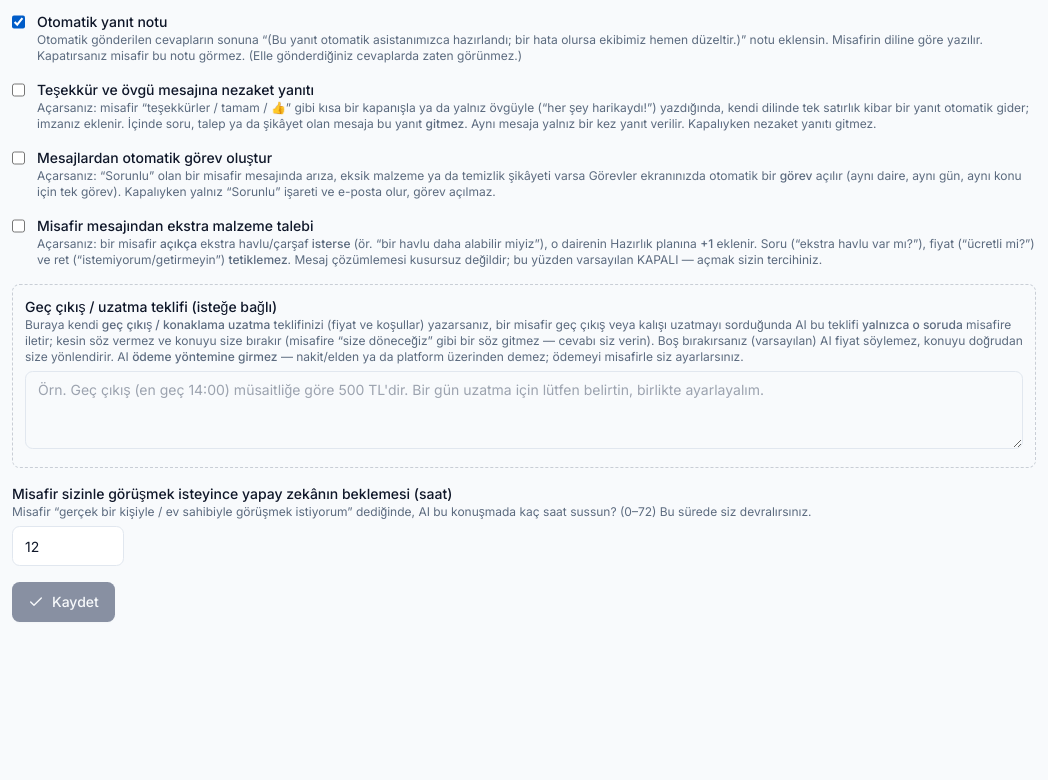
Scenario: AutomationPrefsForm — empty hold-hours guard › a CLEARED hold-hours box is rejected client-side — Number('')=0 must never be sent
The width and height of the screenshot is (1048, 780).
# Clear the field (dirty vs baseline "12" → Kaydet enables) and submit.
Clear the number field labelled "yapay zekânın beklemesi": (68, 546) left=12, top=526, right=124, bottom=566
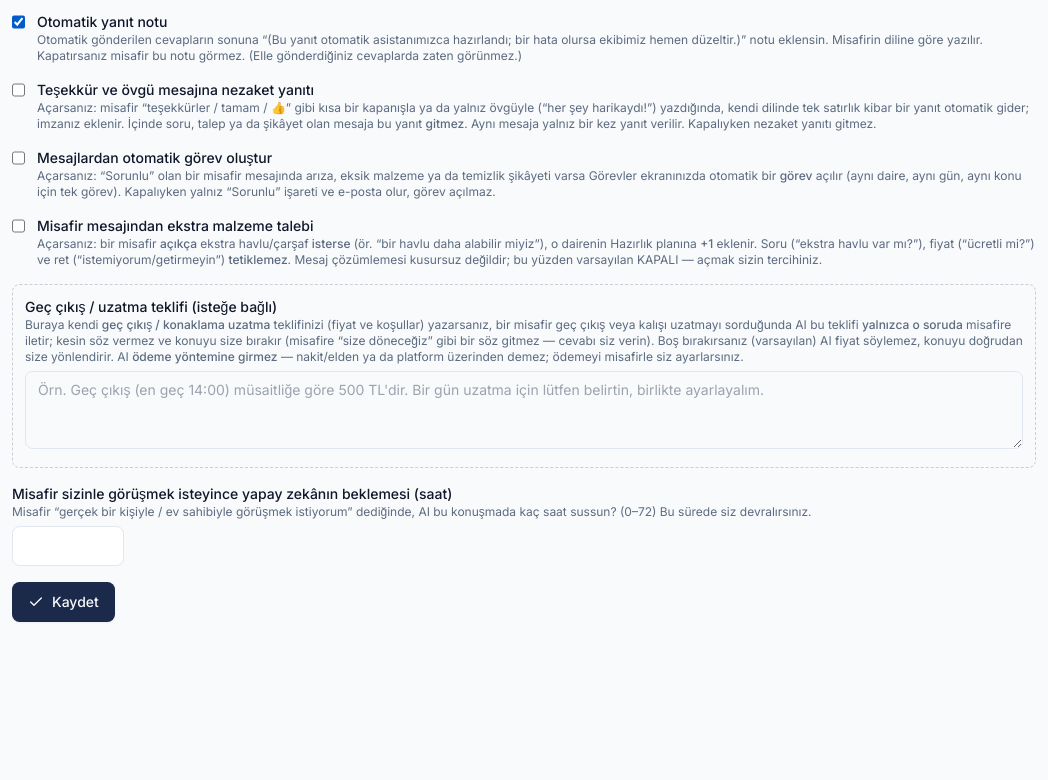
Result: the button "Kaydet" is enabled
Click the button "Kaydet": (63, 602) left=12, top=582, right=115, bottom=622
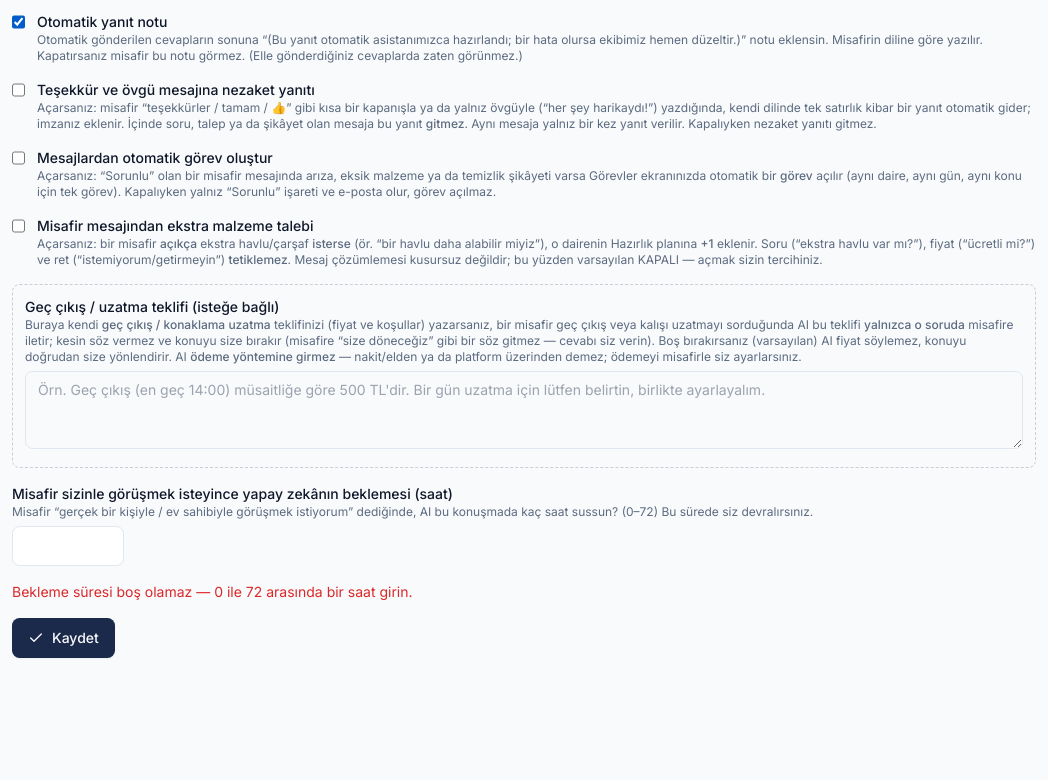
Result: the text "Bekleme süresi boş olamaz — 0 ile 72 arasında bir saat girin." is shown at left=12, top=583, right=412, bottom=600
